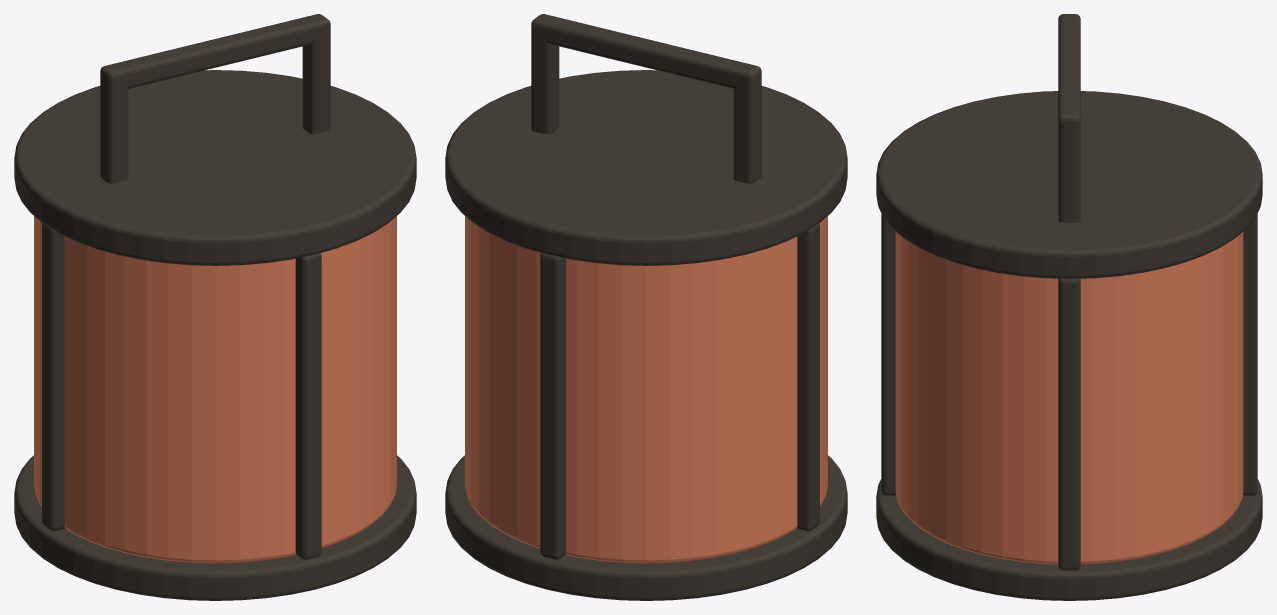
The model's file is festival-paper-lantern-01.glb.
3 renders of one model, left to right at view 1: azimuth 30°, elevation 25°; view 2: azimuth 150°, elevation 25°; view 3: azimuth 270°, elevation 25°, orthographic. The views are drawn at different scales.
Visible parts, largest first — view 1: festival-paper-lantern-01; view 2: festival-paper-lantern-01; view 3: festival-paper-lantern-01.
Boxes of the visible parts, x1,y1,x2,y2 form: festival-paper-lantern-01: [14, 14, 416, 600]; festival-paper-lantern-01: [445, 14, 847, 600]; festival-paper-lantern-01: [876, 14, 1262, 600].
Bounding box in the file's own units: 0.31 × 0.404 × 0.31.
